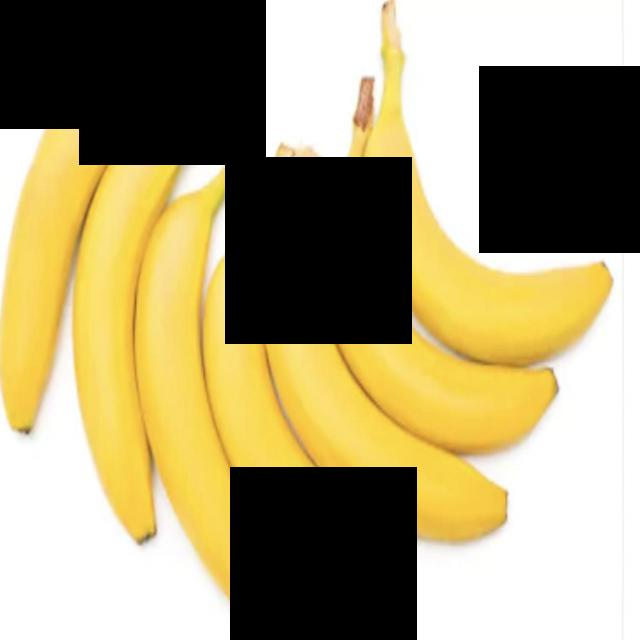banana: (316, 0, 586, 448), (205, 135, 457, 570), (0, 0, 228, 459), (360, 0, 639, 350), (129, 127, 321, 627), (84, 49, 192, 586)
